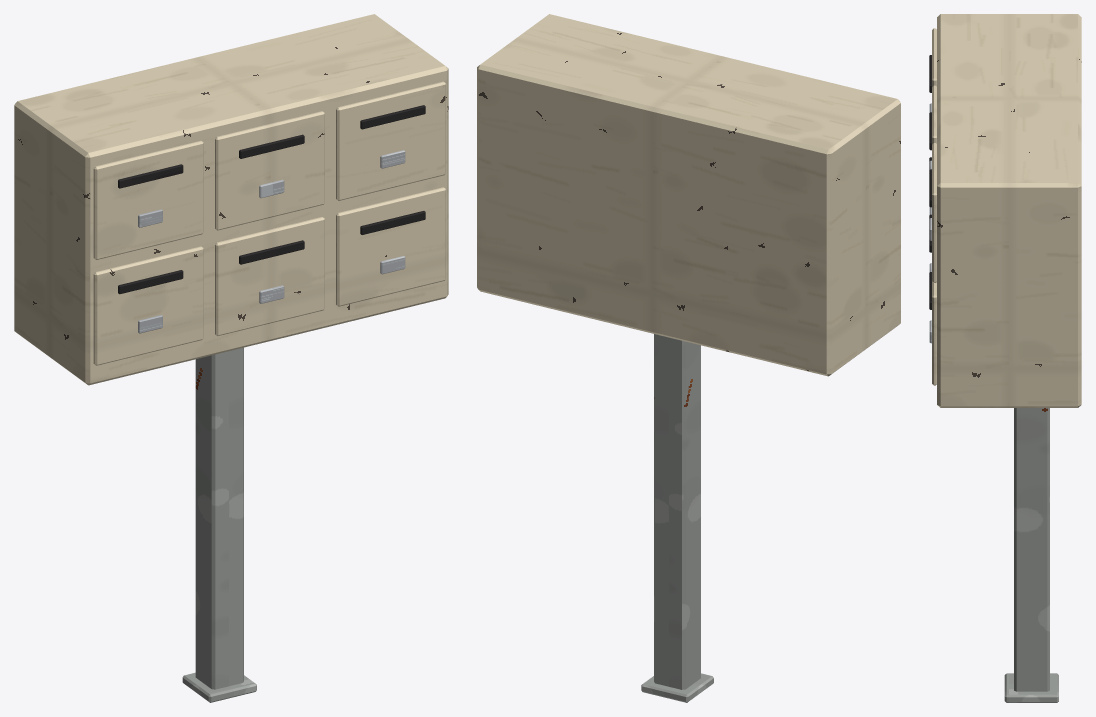
The model's file is mailbox_bank.glb.
3 views of the same model, side by side, from view 1: azimuth 30°, elevation 25°; view 2: azimuth 150°, elevation 25°; view 3: azimuth 270°, elevation 25° (orthographic). The views are drawn at different scales.
Parts seen in each view (by area): view 1: p; view 2: p; view 3: p.
Part boxes in pixels (x1,y1,x2,y2): p: [14, 14, 448, 702]; p: [477, 14, 900, 702]; p: [929, 14, 1081, 702].
Bounding box in the file's own units: 0.9 × 1.45 × 0.337.
Materials: 4 (4 with a texture image).
